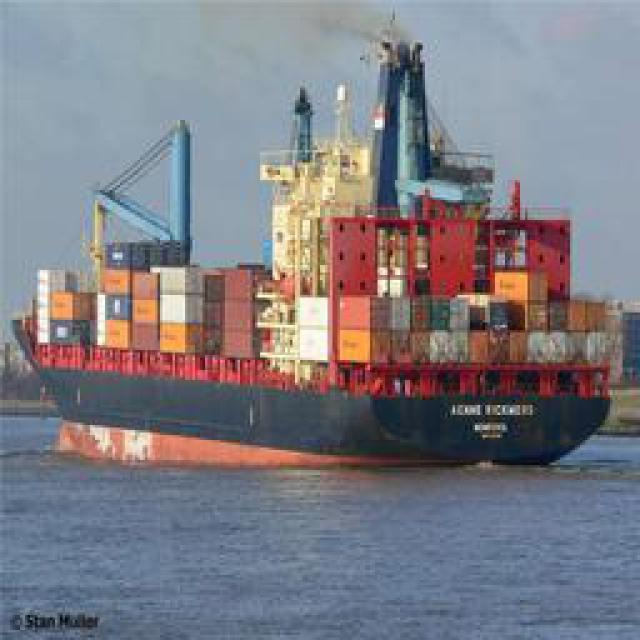Ship: (16, 16, 624, 469)
